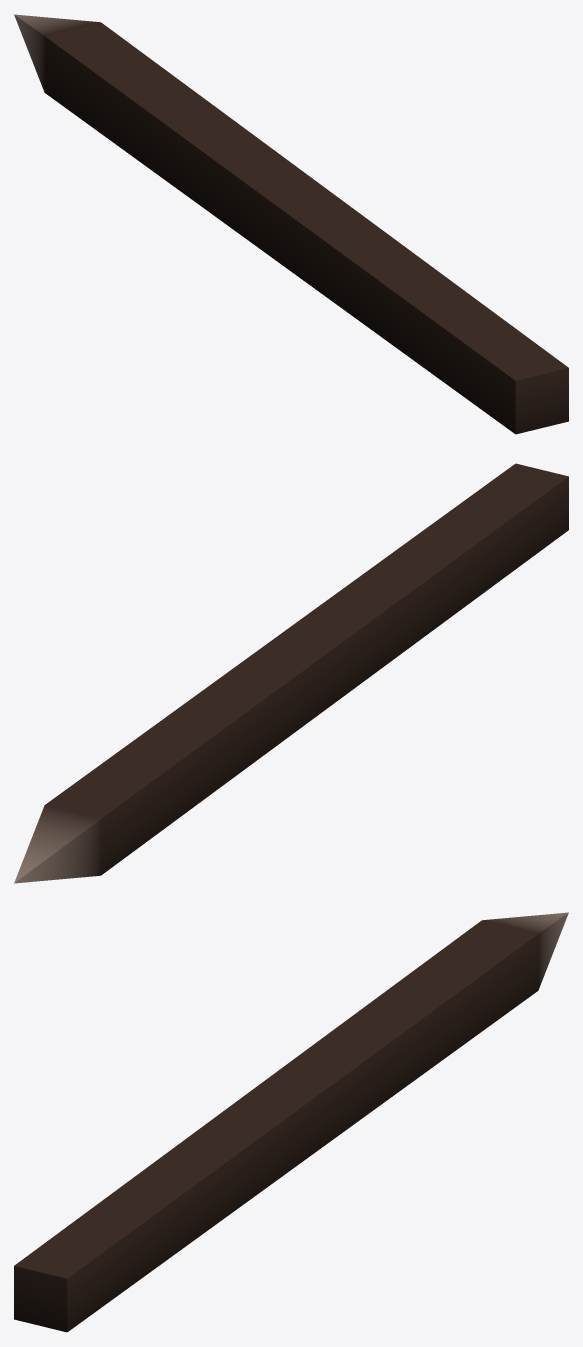
Rendered from Tower_Arrow.FBX.
The picture shows the model from 3 angles, top to bottom: view 1: azimuth 30°, elevation 25°; view 2: azimuth 150°, elevation 25°; view 3: azimuth 330°, elevation 25°; orthographic projection.
Parts seen in each view (by area): view 1: Turret_Arrow; view 2: Turret_Arrow; view 3: Turret_Arrow.
Part boxes in pixels (x1,y1,x2,y2): Turret_Arrow: (14,14,568,434); Turret_Arrow: (14,463,568,883); Turret_Arrow: (14,912,568,1332).
Bounding box in the file's own units: 17.07 × 16.41 × 277.
